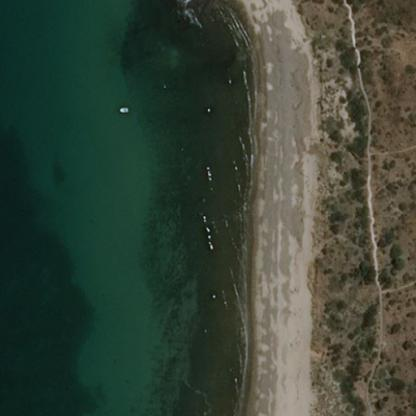ship: (113, 102, 133, 116)
